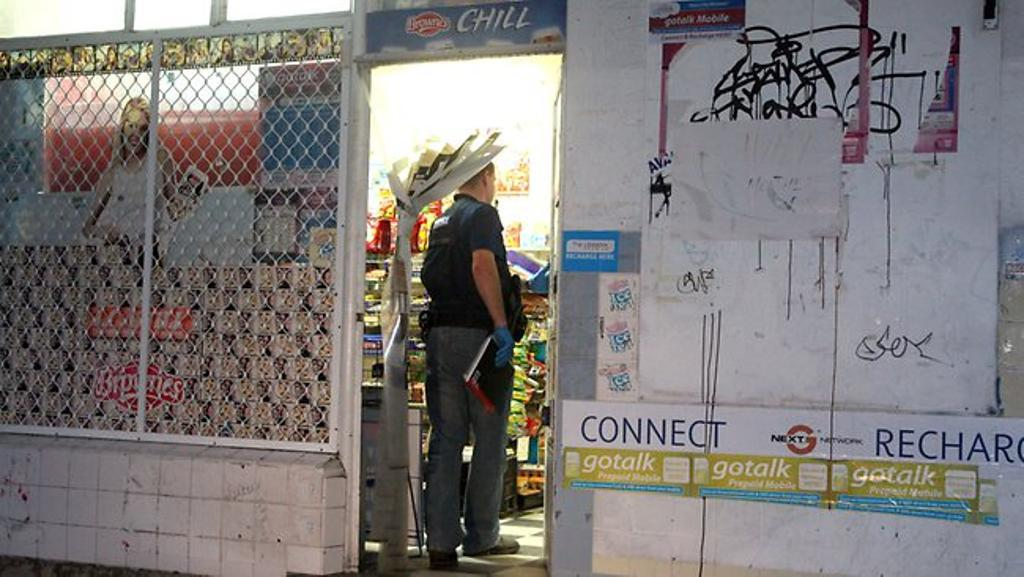face: (124, 112, 147, 153), (168, 42, 176, 57), (148, 46, 156, 58), (224, 40, 231, 53), (265, 37, 272, 50), (108, 50, 115, 62), (246, 41, 253, 51), (199, 42, 205, 51), (124, 53, 130, 62), (66, 53, 71, 63), (52, 59, 58, 66), (39, 62, 44, 69)
